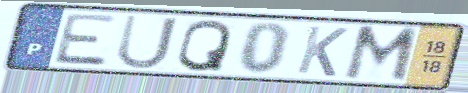0: (237, 20, 293, 76)
E: (50, 12, 121, 68)
K: (293, 23, 351, 79)
M: (340, 24, 422, 85)
Q: (174, 18, 235, 74)
U: (113, 13, 181, 71)
